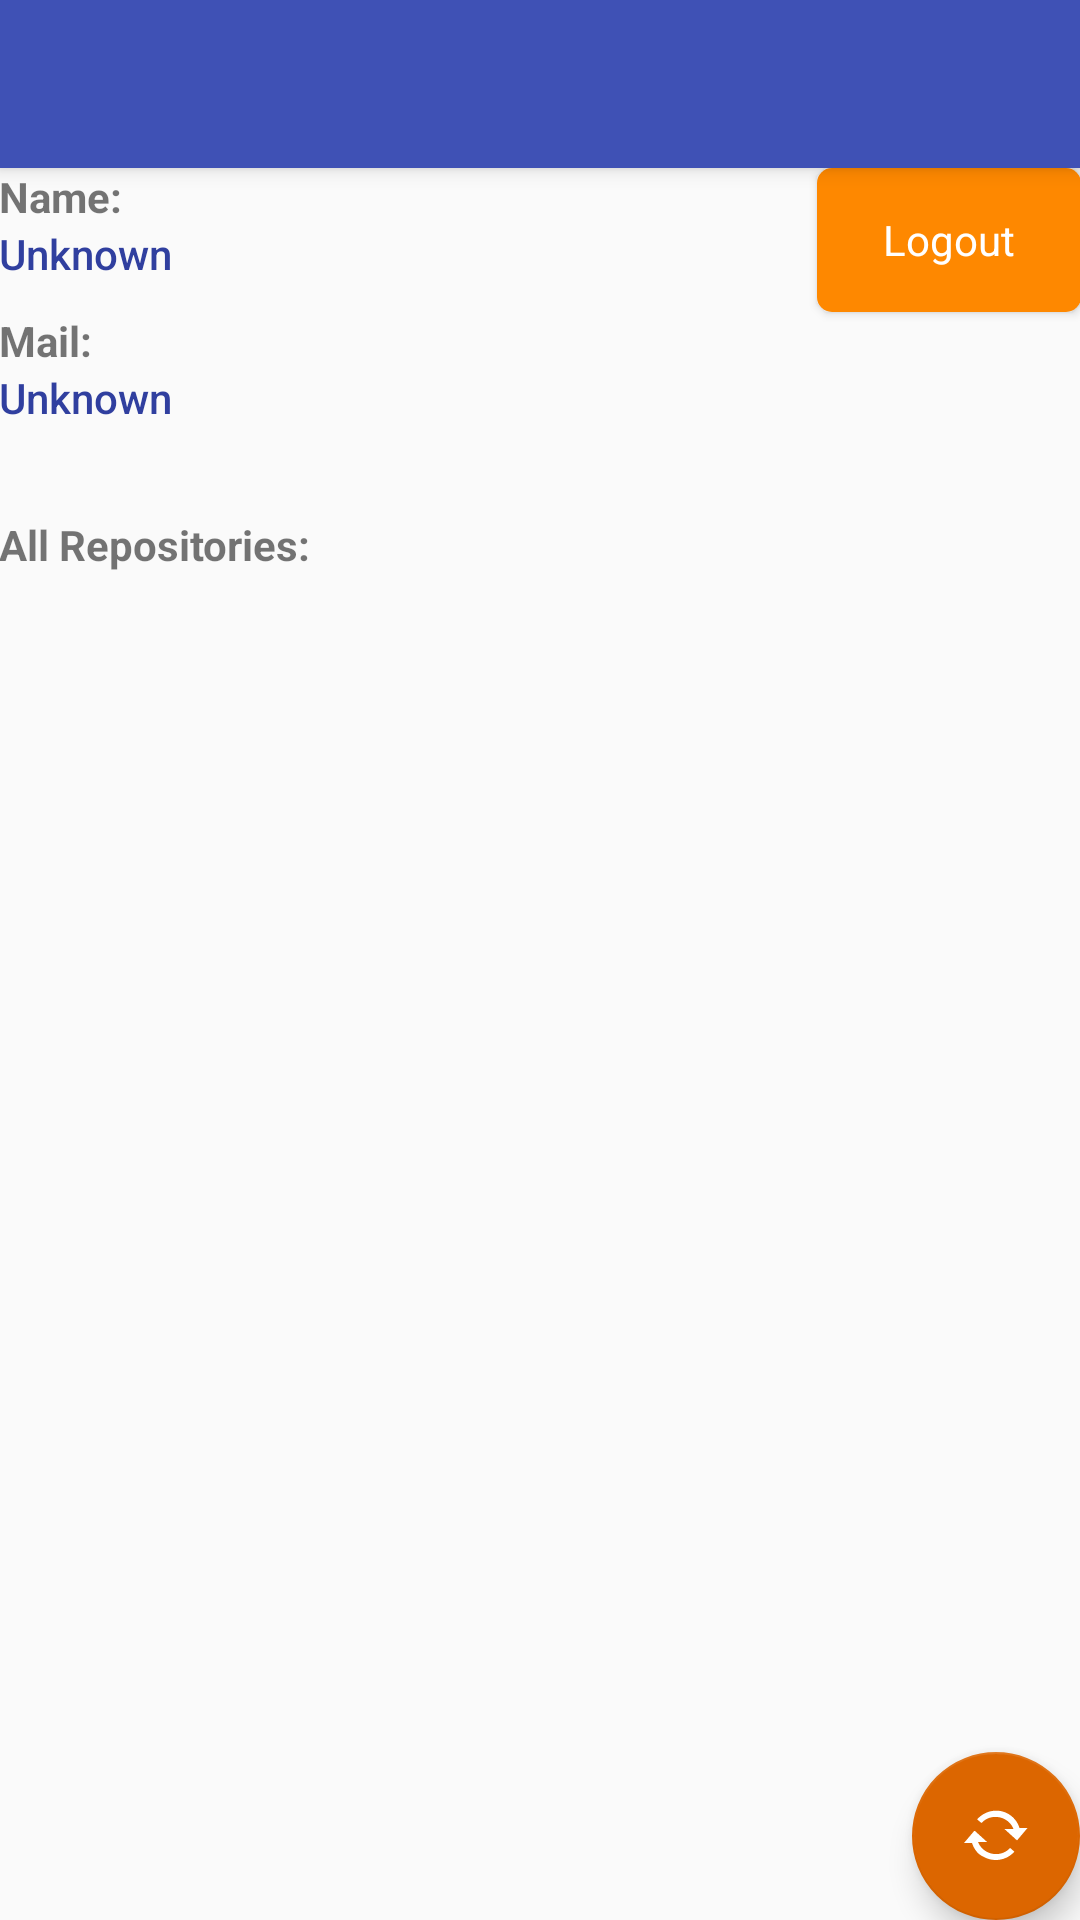

Icons on this 1080w x 1920h Android screen, each with its box as bbox=(x1, y1, x2, y2):
sync noanim: bbox=(912, 1752, 1080, 1920)
